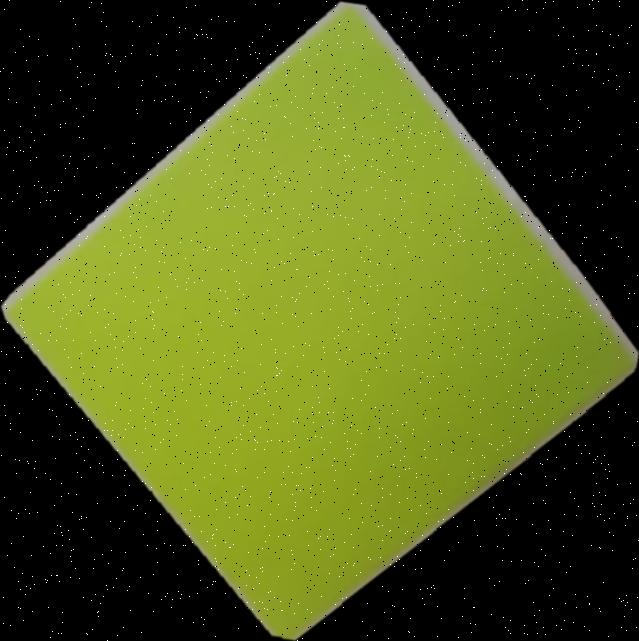Boxes: (0, 1, 638, 640)
